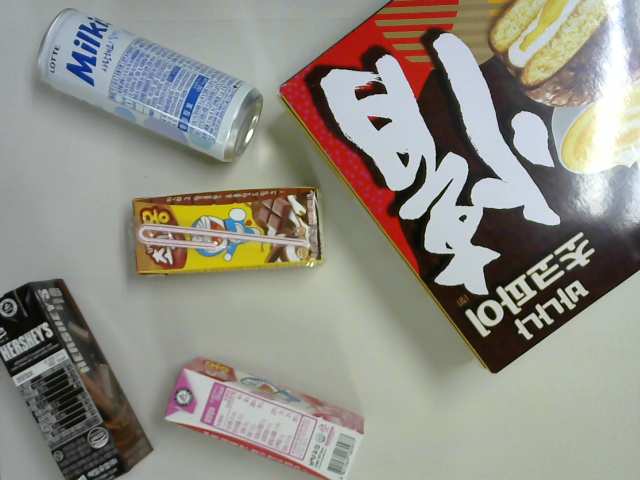Choco_E_Mong: (132, 185, 327, 276)
Choco_Pie_Banana: (279, 1, 640, 374)
Hush_Choco_Drink: (1, 278, 154, 478)
Milkies_250ml: (34, 8, 264, 164)
Strawberry_E_Mong: (165, 358, 365, 480)
